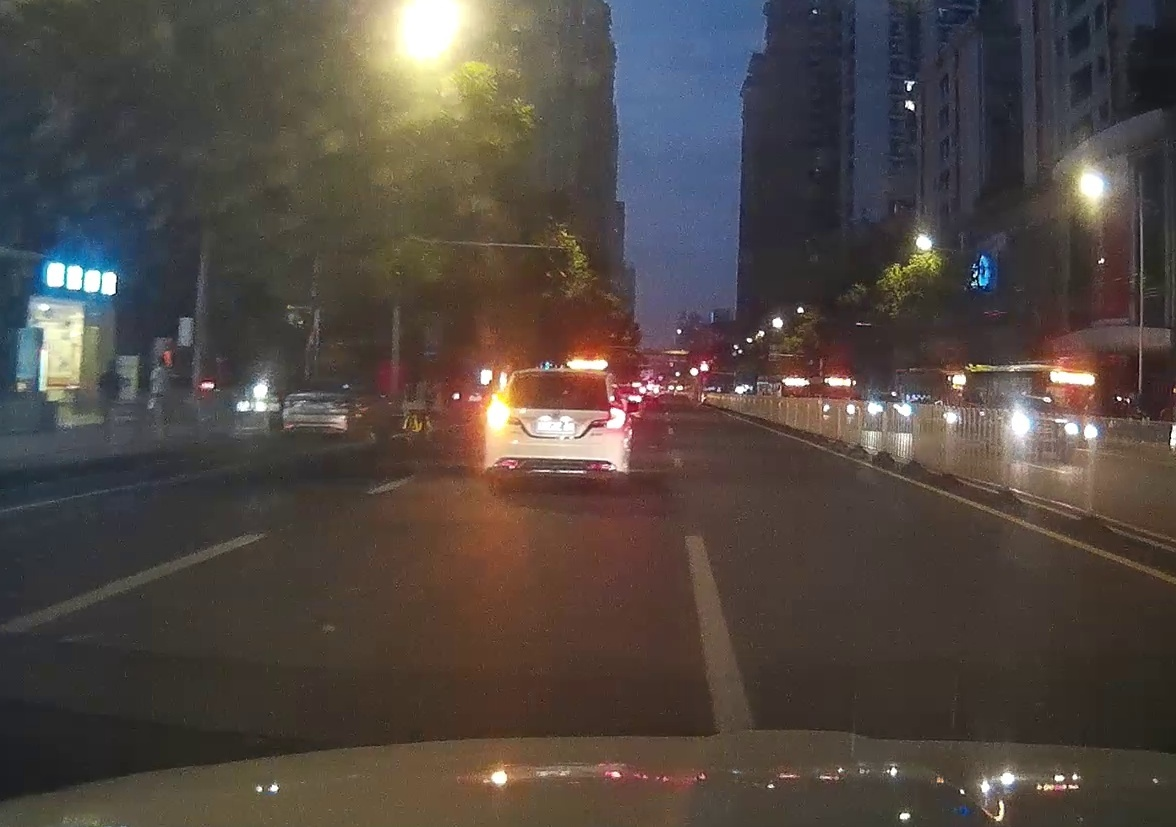L_light: (488, 401, 509, 428)
R_light: (606, 406, 627, 430)
T_light: (553, 369, 569, 375)
night-no: (487, 367, 628, 494)
